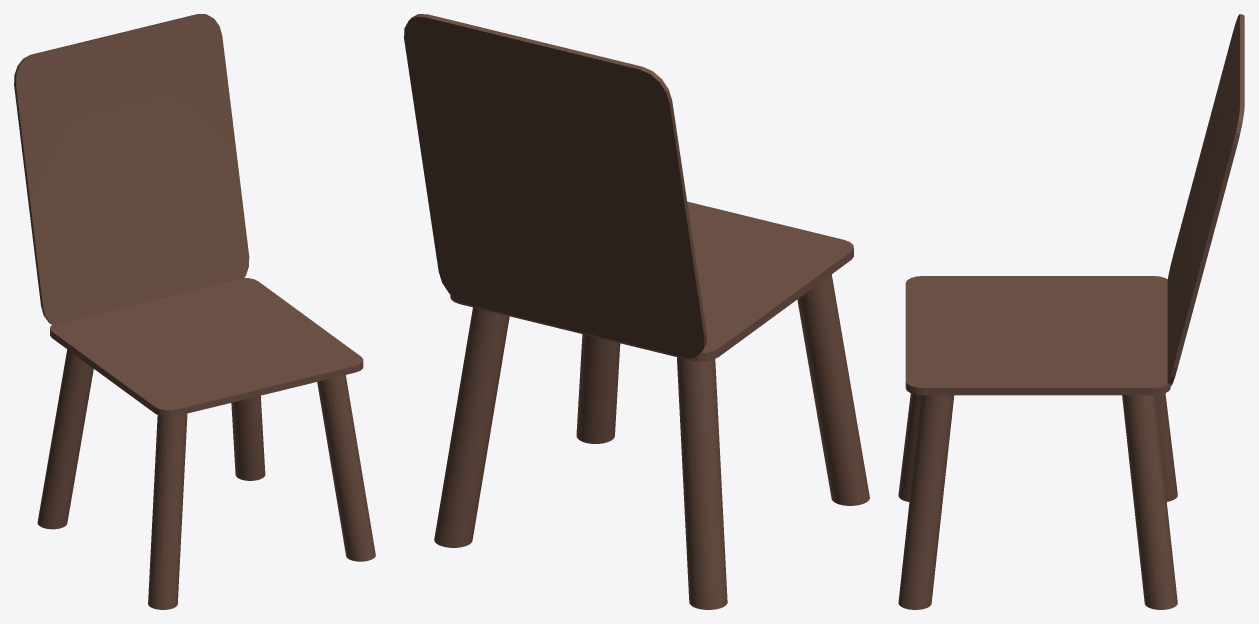
The model's file is chair.fbx.
3 renders of one model, left to right at view 1: azimuth 30°, elevation 25°; view 2: azimuth 150°, elevation 25°; view 3: azimuth 270°, elevation 25°, orthographic. The views are drawn at different scales.
Visible parts, largest first — view 1: Plane; view 2: Plane; view 3: Plane.
Boxes of the visible parts, x1,y1,x2,y2 form: Plane: (14,14,375,609); Plane: (404,14,869,609); Plane: (898,14,1244,609).
Bounding box in the file's own units: 217 × 406 × 261.
